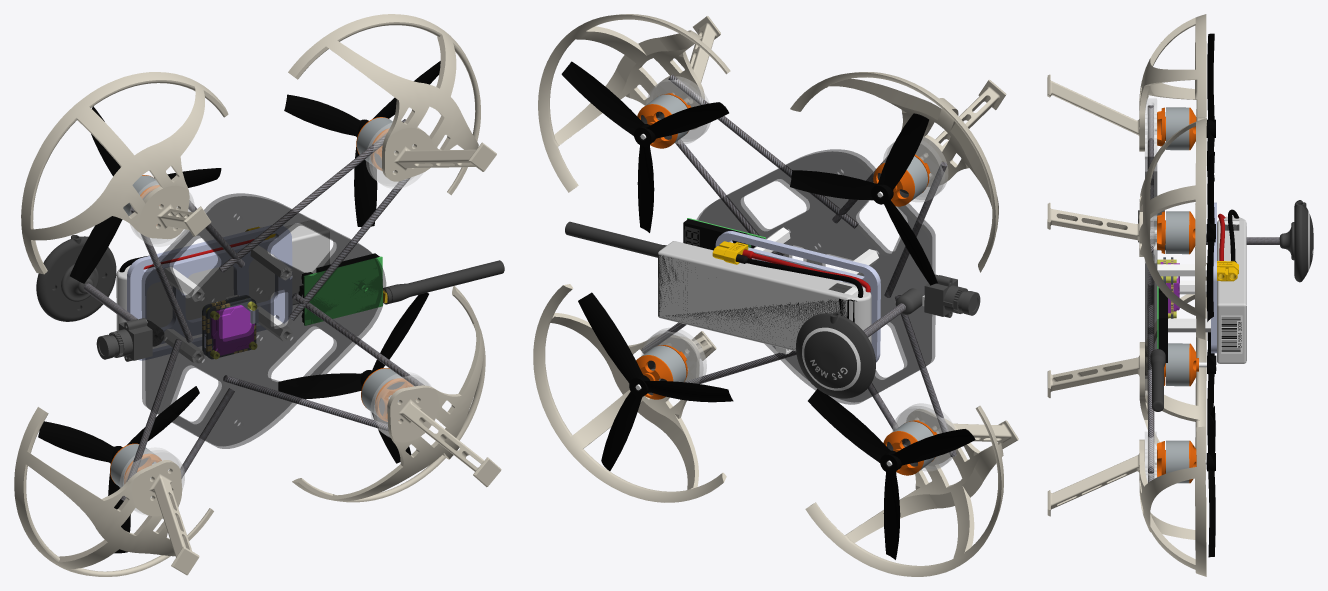
Rendered from akshayaan_compressed.glb.
3 renders of one model, left to right at view 1: azimuth 30°, elevation 25°; view 2: azimuth 150°, elevation 25°; view 3: azimuth 270°, elevation 25°, orthographic. The views are drawn at different scales.
Parts seen in each view (by area): view 1: object 4, object 1, Standoff PLA 80 QTY 8-4 - Part; view 2: object 4, object 1; view 3: object 4, object 1, Standoff PLA 80 QTY 8-1 - Part.
Part boxes in pixels (x1,y1,x2,y2): object 4: [14, 14, 504, 576]; object 1: [38, 61, 440, 553]; Standoff PLA 80 QTY 8-4 - Part: [164, 266, 204, 301]; object 4: [533, 14, 1018, 576]; object 1: [561, 61, 975, 559]; object 4: [1047, 14, 1313, 576]; object 1: [1144, 33, 1216, 557]; Standoff PLA 80 QTY 8-1 - Part: [1168, 318, 1210, 332].
Size of the model in its own units: 0.3183 by 0.3225 by 0.1736.
Materials: 43 (5 with a texture image).
